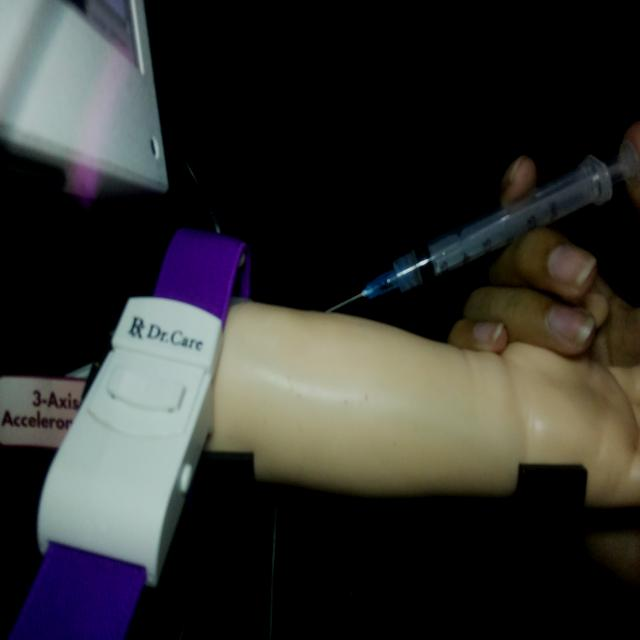19 degrees: (322, 137, 637, 316)
